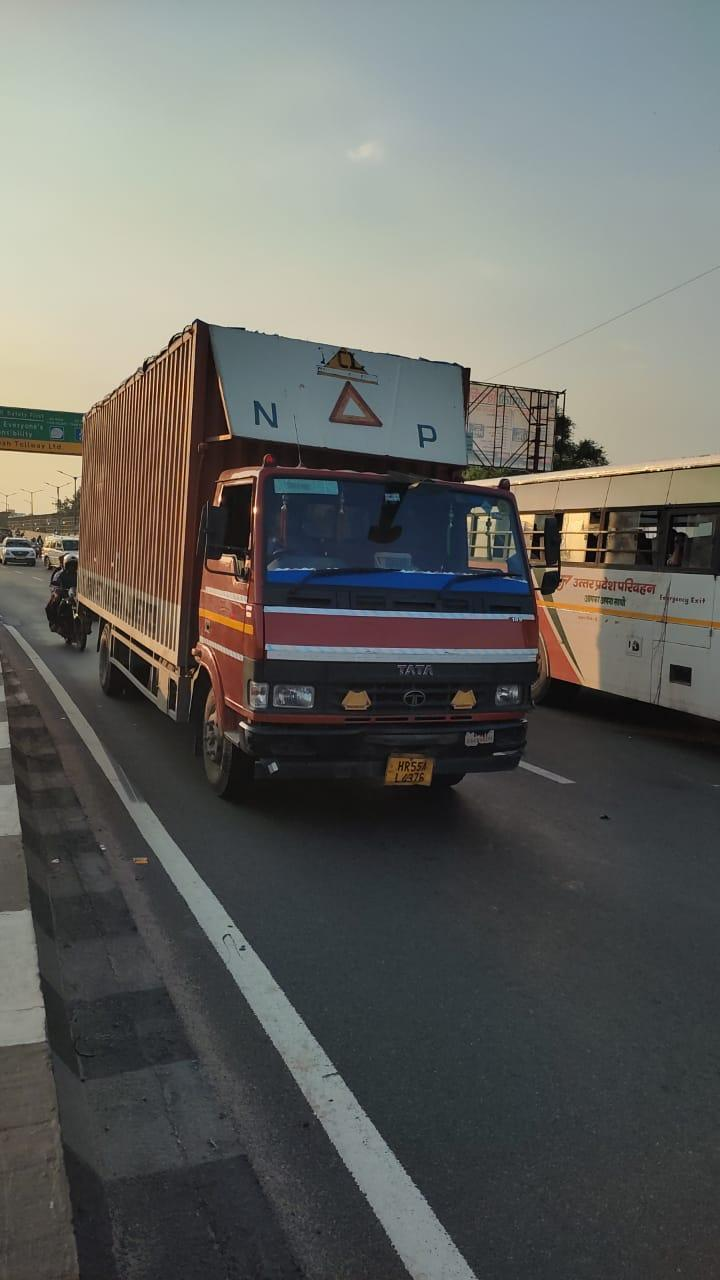truck: (70, 320, 566, 816)
